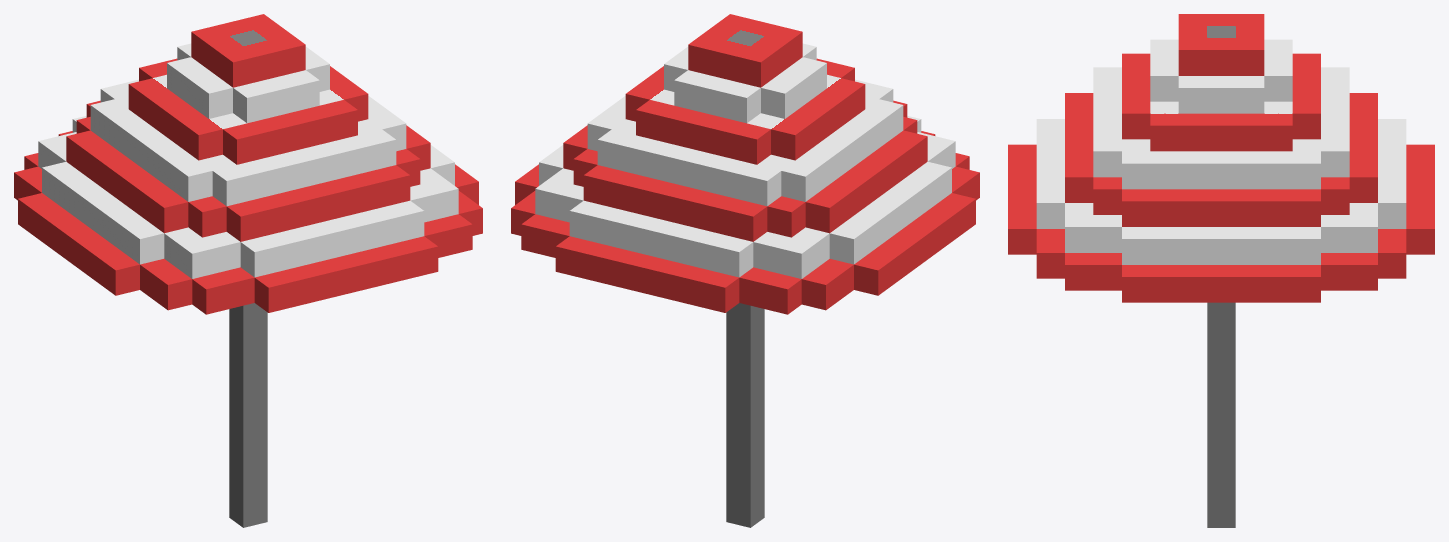
Rendered from Umbrella_RedWhite.fbx.
The picture shows the model from 3 angles, left to right: view 1: azimuth 30°, elevation 25°; view 2: azimuth 150°, elevation 25°; view 3: azimuth 270°, elevation 25°; orthographic projection.
Visible parts, largest first — view 1: _2; view 2: _2; view 3: _2.
Part boxes in pixels (left/top/right/bottom): _2: left=14, top=14, right=482, bottom=527; _2: left=511, top=14, right=979, bottom=527; _2: left=1008, top=14, right=1434, bottom=527.
Size of the model in its own units: 15 by 19 by 15.
